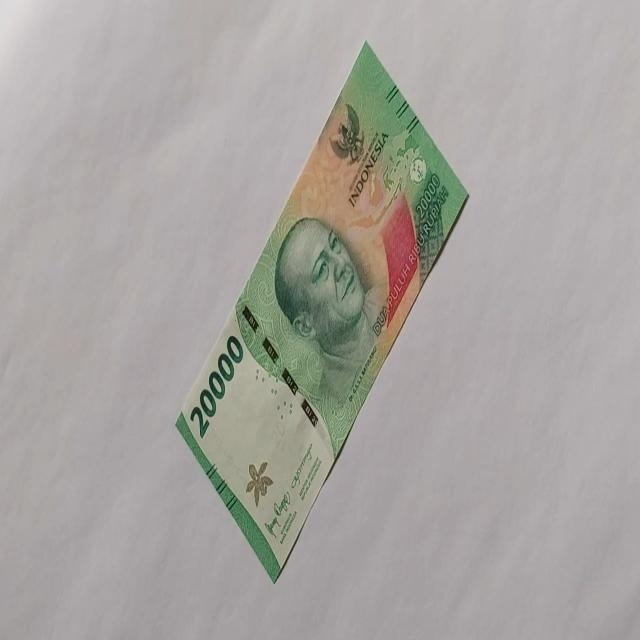dua puluh ribu rupiah: (174, 38, 470, 583), (272, 214, 380, 406), (188, 332, 244, 440)
